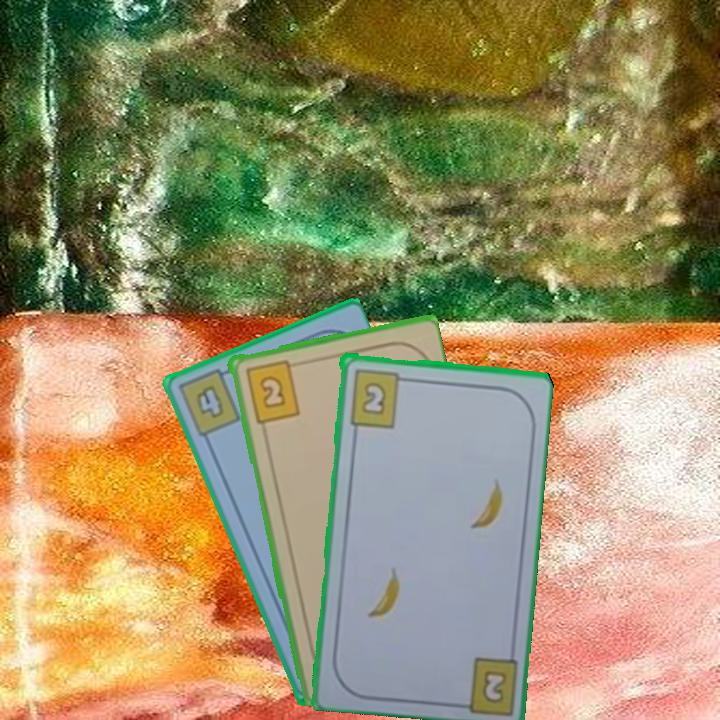2b: (345, 365, 411, 430), (241, 356, 302, 425), (478, 666, 509, 706)
4b: (174, 364, 244, 440)
